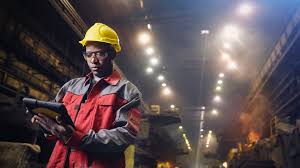Person_wearing_helmet: (78, 18, 120, 57)
